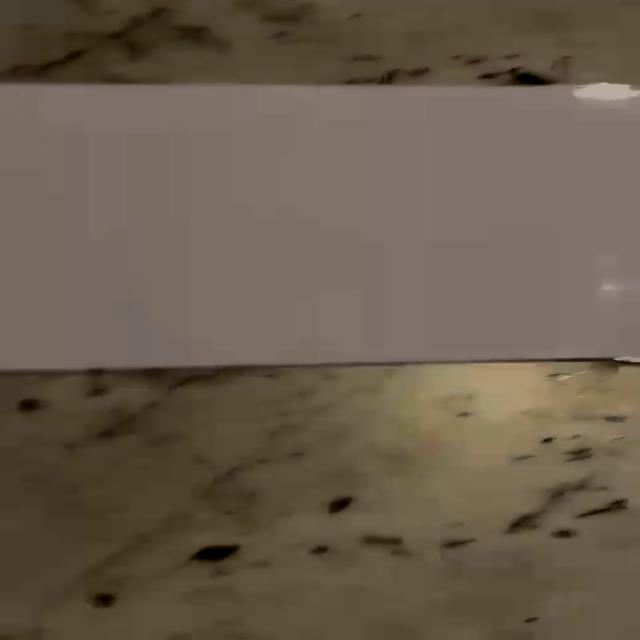road: (3, 83, 640, 369)
